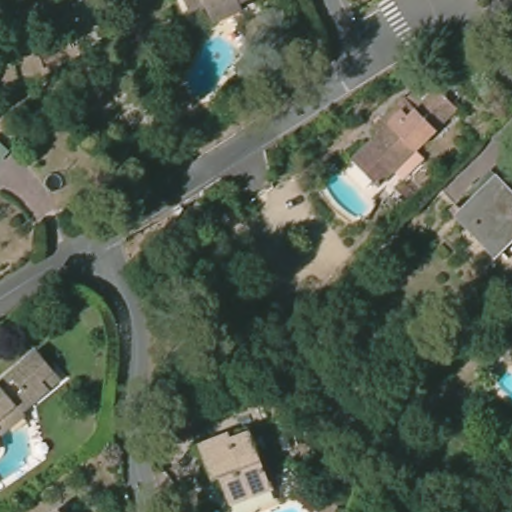pool: (172, 36, 241, 101), (1, 421, 42, 489), (321, 173, 371, 224), (498, 367, 512, 399)
